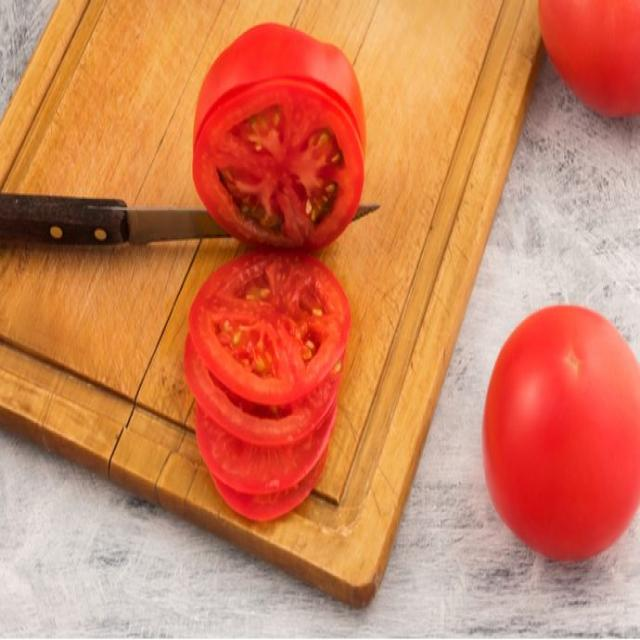Tomato: (476, 299, 640, 567), (189, 19, 369, 254), (187, 248, 357, 409), (180, 319, 358, 450), (193, 398, 342, 494), (207, 459, 331, 524)
